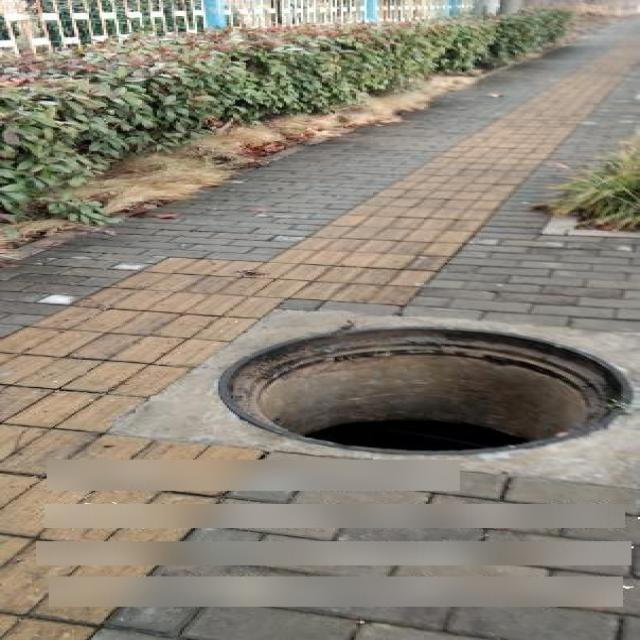Uncovered: (218, 322, 638, 456)
